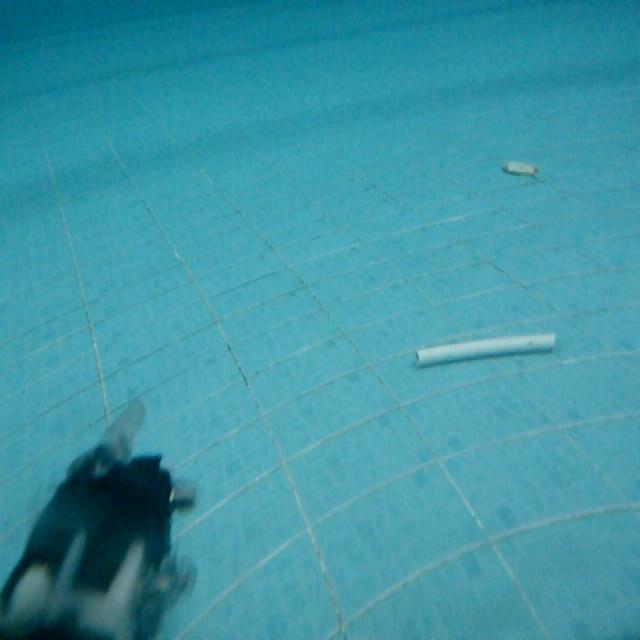Cube: (411, 327, 558, 369)
